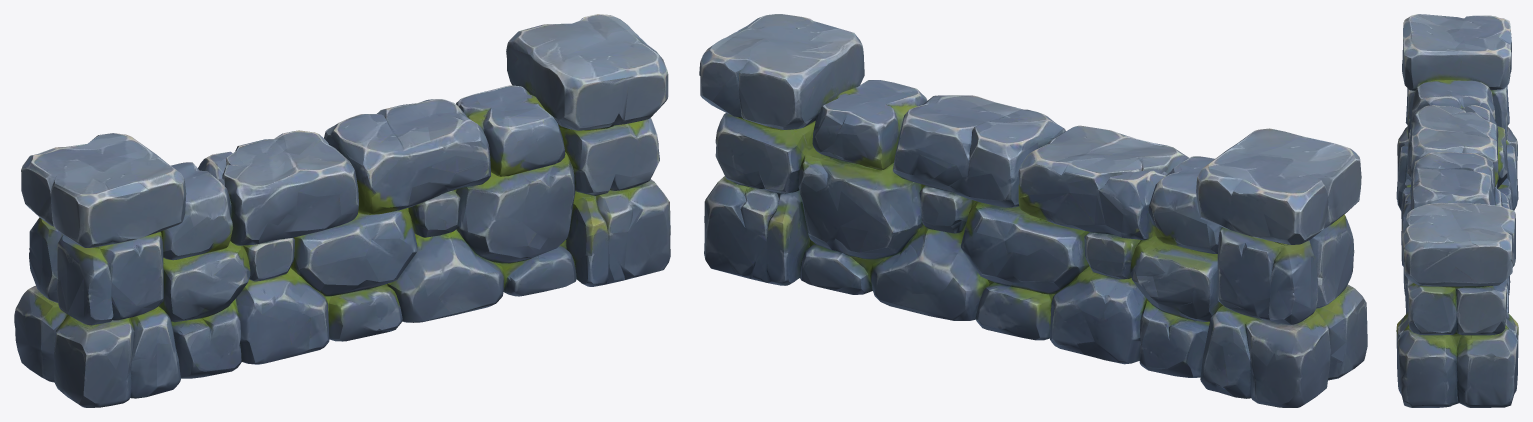
File: prop_stonewall.glb
3 renders of one model, left to right at view 1: azimuth 30°, elevation 25°; view 2: azimuth 150°, elevation 25°; view 3: azimuth 270°, elevation 25°, orthographic. The views are drawn at different scales.
Visible parts, largest first — view 1: output_unwrapped; view 2: output_unwrapped; view 3: output_unwrapped.
Boxes of the visible parts, x1=… form: output_unwrapped: x1=14, y1=14, x2=670, y2=407; output_unwrapped: x1=699, y1=14, x2=1367, y2=407; output_unwrapped: x1=1396, y1=14, x2=1518, y2=407.
Bounding box in the file's own units: 1.9 × 0.6471 × 0.4209.
1 material, 1 textured.
